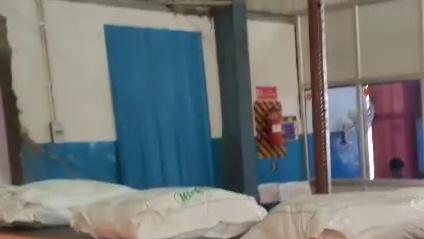box: (70, 187, 266, 239), (239, 187, 424, 239), (0, 179, 134, 226)
